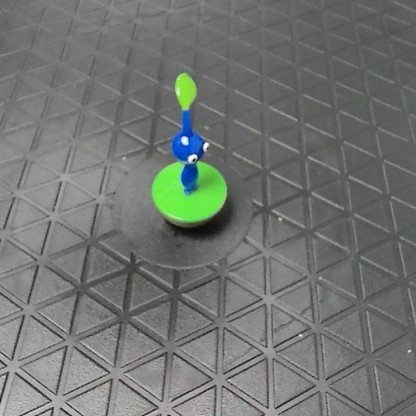leafairy: (152, 69, 227, 230)
